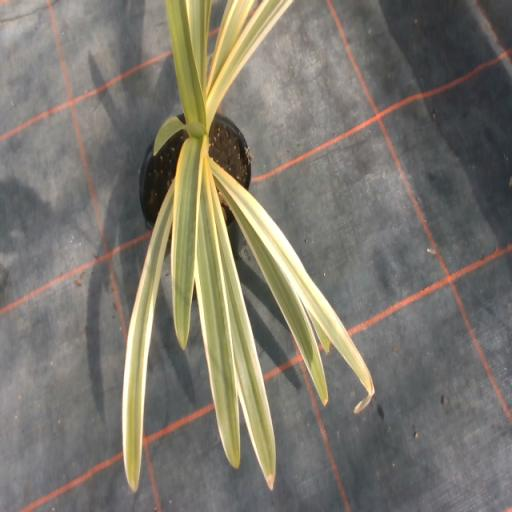Agapanthus-praecox: (212, 160, 374, 413), (215, 179, 327, 403), (210, 177, 275, 489), (122, 185, 173, 490), (195, 164, 239, 466), (206, 0, 292, 126), (171, 139, 206, 348), (166, 0, 204, 124), (207, 0, 253, 87), (186, 0, 210, 102), (154, 116, 205, 154)
